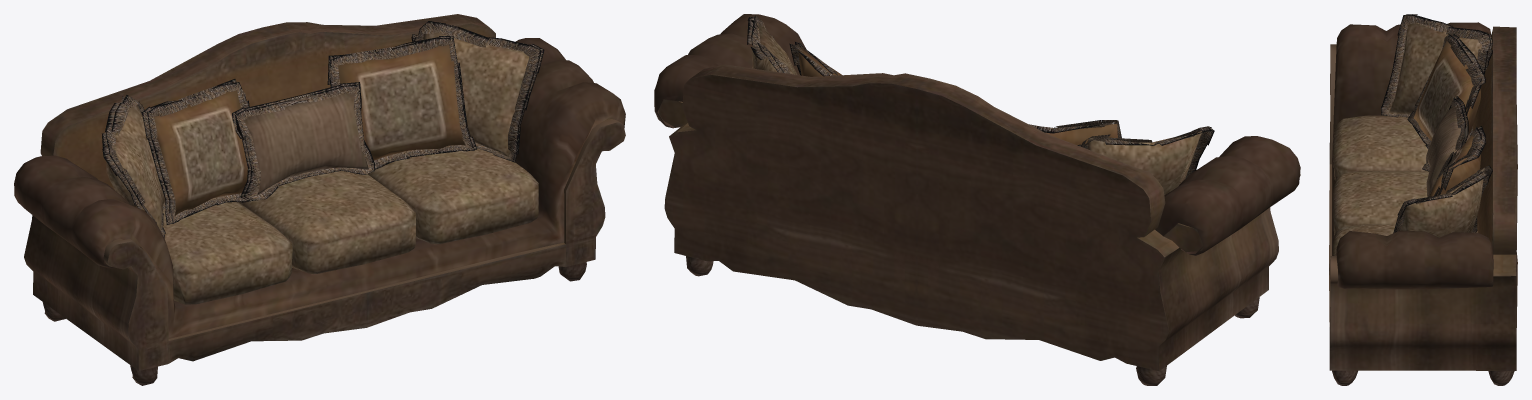
The model's file is sofa.glb.
3 views of the same model, side by side, from view 1: azimuth 30°, elevation 25°; view 2: azimuth 150°, elevation 25°; view 3: azimuth 270°, elevation 25° (orthographic). The views are drawn at different scales.
Parts seen in each view (by area): view 1: sofa_03; view 2: sofa_03; view 3: sofa_03.
Part boxes in pixels (box(x1,y1,x2,y2)): sofa_03: box(14, 14, 625, 385); sofa_03: box(654, 14, 1300, 385); sofa_03: box(1329, 14, 1517, 385).
Bounding box in the file's own units: 2.73 × 1.12 × 0.9237.
Materials: 1 (1 with a texture image).
